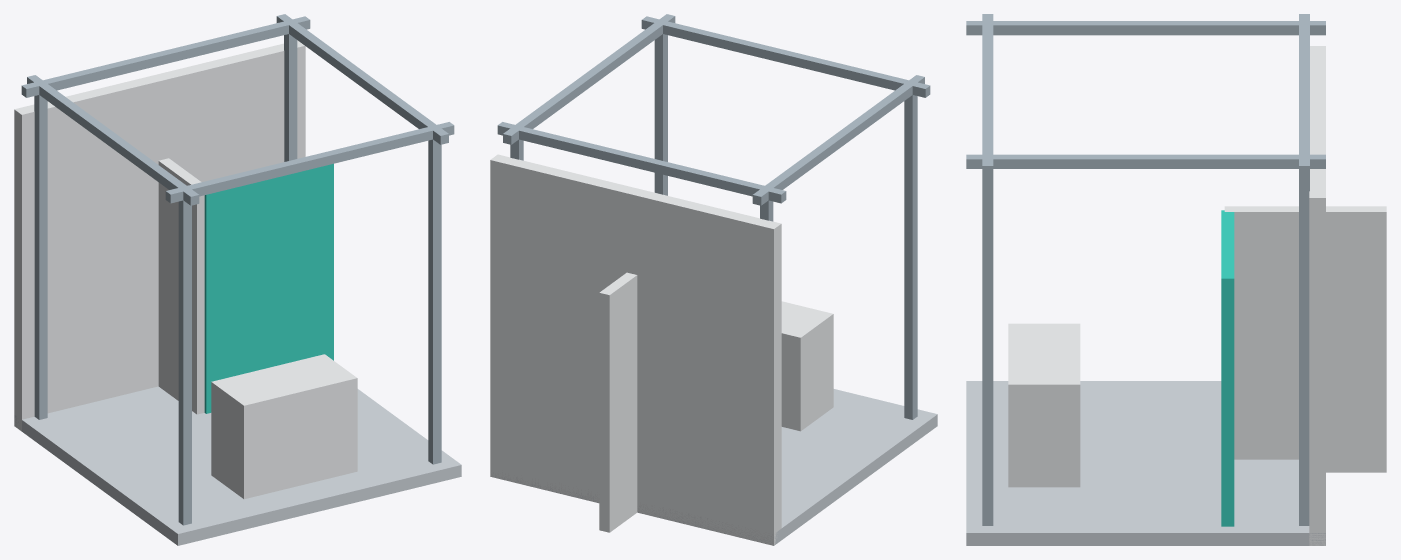
3 renders of one model, left to right at view 1: azimuth 30°, elevation 25°; view 2: azimuth 150°, elevation 25°; view 3: azimuth 270°, elevation 25°, orthographic. The views are drawn at different scales.
Parts seen in each view (by area): view 1: Exhibition Booth Concept; view 2: Exhibition Booth Concept; view 3: Exhibition Booth Concept.
Boxes of the visible parts, x1,y1,x2,y2 form: Exhibition Booth Concept: (14,14,461,545); Exhibition Booth Concept: (490,14,937,545); Exhibition Booth Concept: (966,14,1386,545).
Bounding box in the file's own units: 3 × 3.49 × 3.51.
